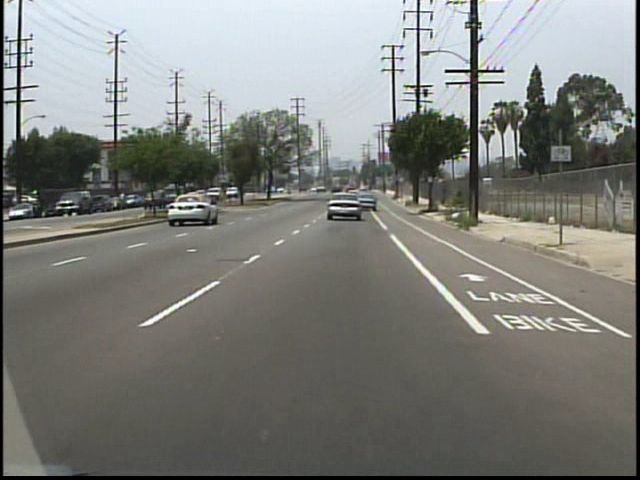person: (117, 190, 127, 210)
